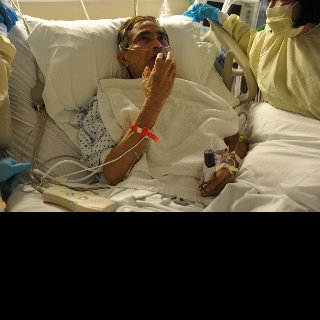without_mask: (126, 18, 171, 80), (266, 0, 300, 34)
